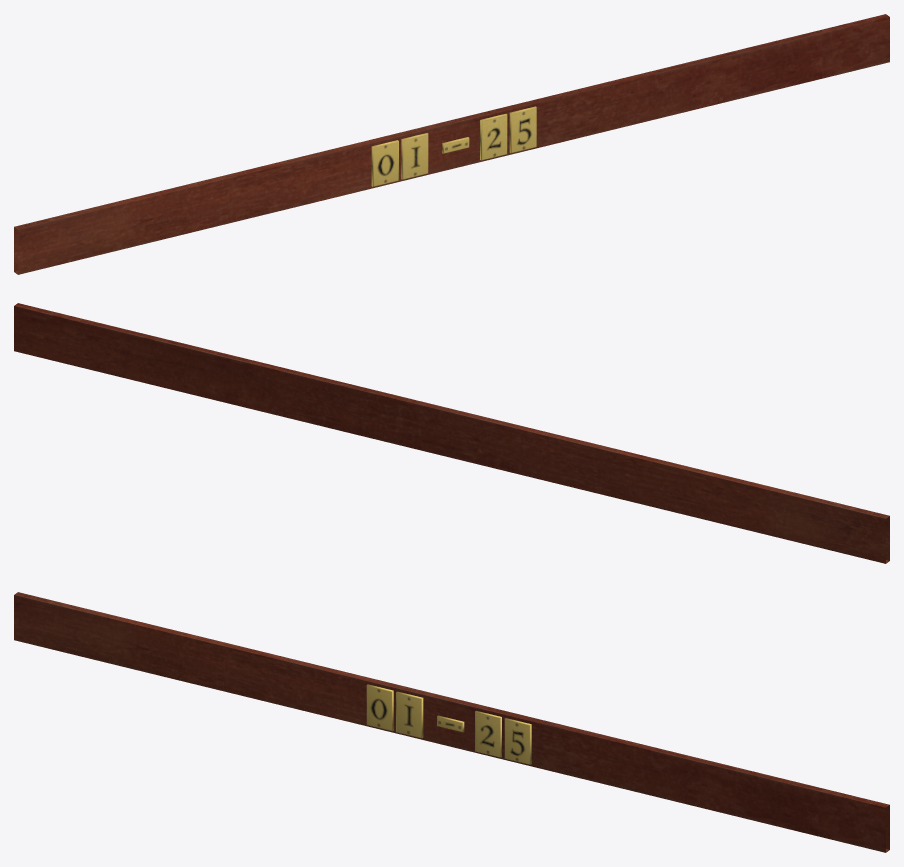
The model's file is Garderobe01_Num01-25.FBX.
3 renders of one model, top to bottom at view 1: azimuth 30°, elevation 25°; view 2: azimuth 150°, elevation 25°; view 3: azimuth 330°, elevation 25°, orthographic.
Parts seen in each view (by area): view 1: Garderobe01_Num01-25; view 2: Garderobe01_Num01-25; view 3: Garderobe01_Num01-25.
Part boxes in pixels (<box>): Garderobe01_Num01-25: <box>14,14,889,274</box>; Garderobe01_Num01-25: <box>14,303,889,563</box>; Garderobe01_Num01-25: <box>14,592,889,852</box>.
Bounding box in the file's own units: 2000 × 99.1 × 21.44.
